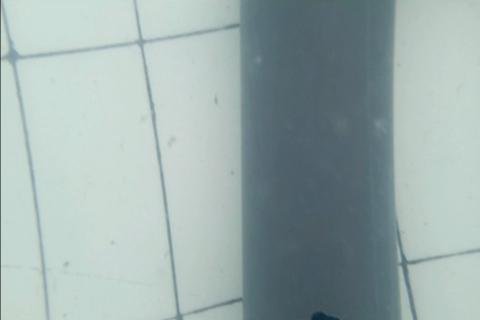kebocoran: (311, 311, 341, 320)
